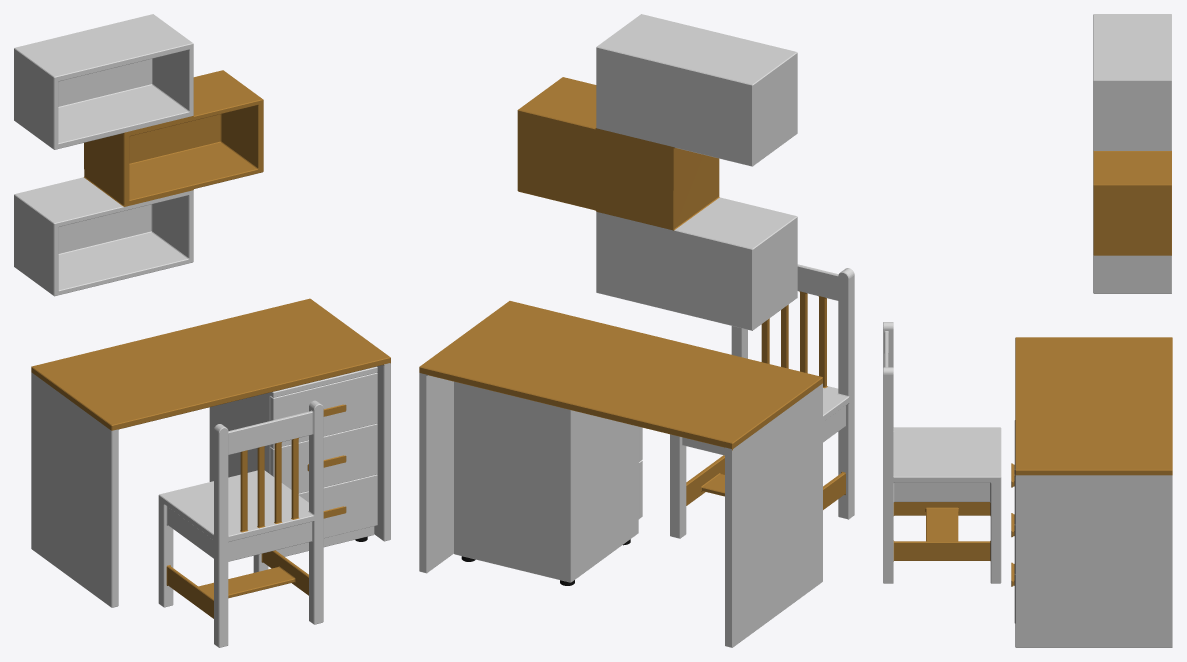
File: ReadingTable1.FBX
3 views of the same model, side by side, from view 1: azimuth 30°, elevation 25°; view 2: azimuth 150°, elevation 25°; view 3: azimuth 270°, elevation 25° (orthographic). The views are drawn at different scales.
Visible parts, largest first — view 1: skp1A7F1, Arc_object1, Arc_objec0_1, Arc_objec1_1, Arc_objec3_1, Arc_objec4_1; view 2: skp1A7F1, Arc_object1, Arc_objec0_1; view 3: Arc_object1, skp1A7F1.
Boxes of the visible parts, left/top/right/bottom form: skp1A7F1: left=14, top=14, right=323, bottom=647; Arc_object1: left=31, top=298, right=390, bottom=607; Arc_objec0_1: left=209, top=366, right=377, bottom=556; Arc_objec1_1: left=270, top=372, right=377, bottom=448; Arc_objec3_1: left=270, top=423, right=377, bottom=493; Arc_objec4_1: left=298, top=474, right=377, bottom=538; skp1A7F1: left=517, top=14, right=854, bottom=538; Arc_object1: left=419, top=301, right=822, bottom=647; Arc_objec0_1: left=454, top=381, right=638, bottom=582; Arc_object1: left=1015, top=337, right=1172, bottom=647; skp1A7F1: left=883, top=14, right=1171, bottom=583.
Size of the model in its own units: 130 by 211 by 112.
